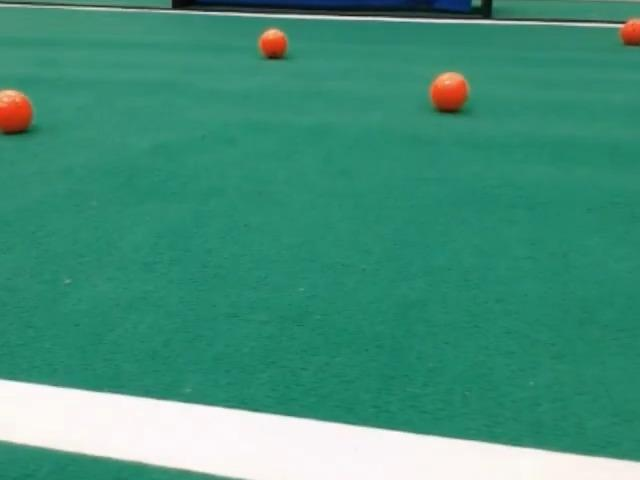Ball: (429, 72, 469, 112), (0, 89, 33, 134), (258, 28, 287, 59), (620, 18, 639, 46)
